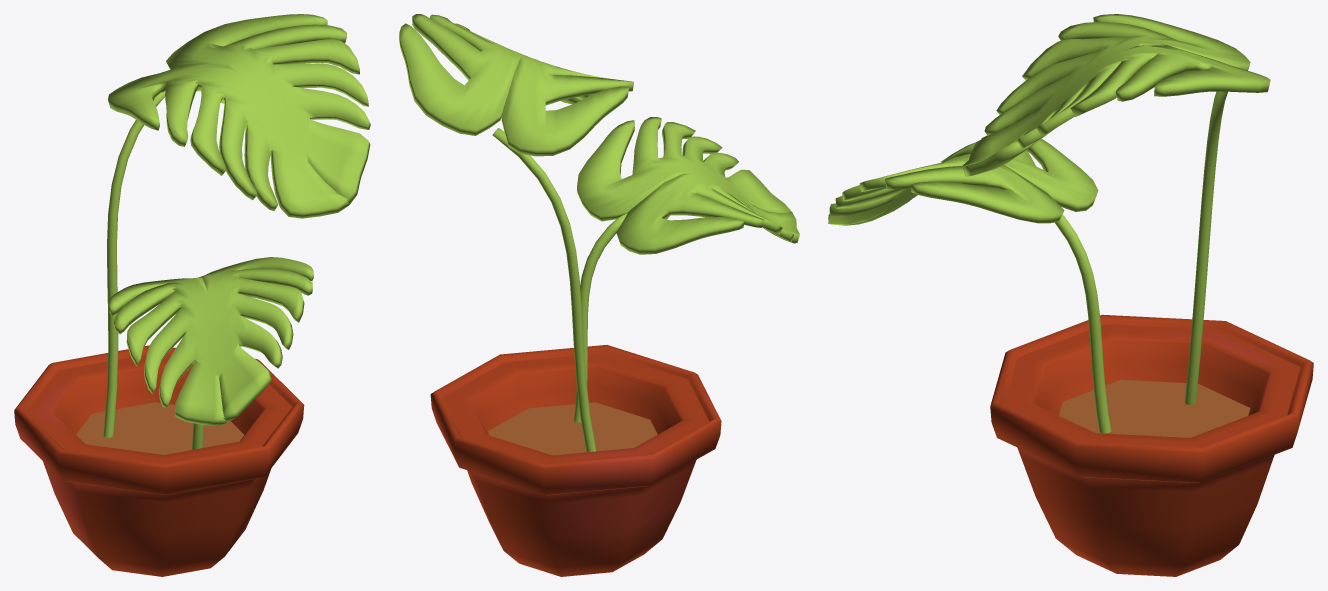
The model's file is Asset_monsteraPlant.fbx.
3 views of the same model, side by side, from view 1: azimuth 30°, elevation 25°; view 2: azimuth 150°, elevation 25°; view 3: azimuth 270°, elevation 25° (orthographic). The views are drawn at different scales.
Visible parts, largest first — view 1: Plane.021, Cube.047, Plane.020, Plane.018; view 2: Cube.047, Plane.021, Plane.020, Plane.018; view 3: Cube.047, Plane.021, Plane.020, Plane.018.
Boxes of the visible parts, x1=… form: Plane.021: x1=103, y1=14, x2=370, y2=437; Cube.047: x1=14, y1=345, x2=304, y2=576; Plane.020: x1=108, y1=257, x2=313, y2=449; Plane.018: x1=76, y1=402, x2=244, y2=454; Cube.047: x1=430, y1=345, x2=721, y2=576; Plane.021: x1=399, y1=14, x2=633, y2=452; Plane.020: x1=574, y1=117, x2=799, y2=422; Plane.018: x1=487, y1=402, x2=657, y2=455; Cube.047: x1=990, y1=314, x2=1313, y2=576; Plane.021: x1=962, y1=14, x2=1270, y2=404; Plane.020: x1=828, y1=135, x2=1111, y2=433; Plane.018: x1=1059, y1=379, x2=1250, y2=437.
Size of the model in its own units: 44.3 by 69.5 by 55.12.
3 materials, 1 textured.
